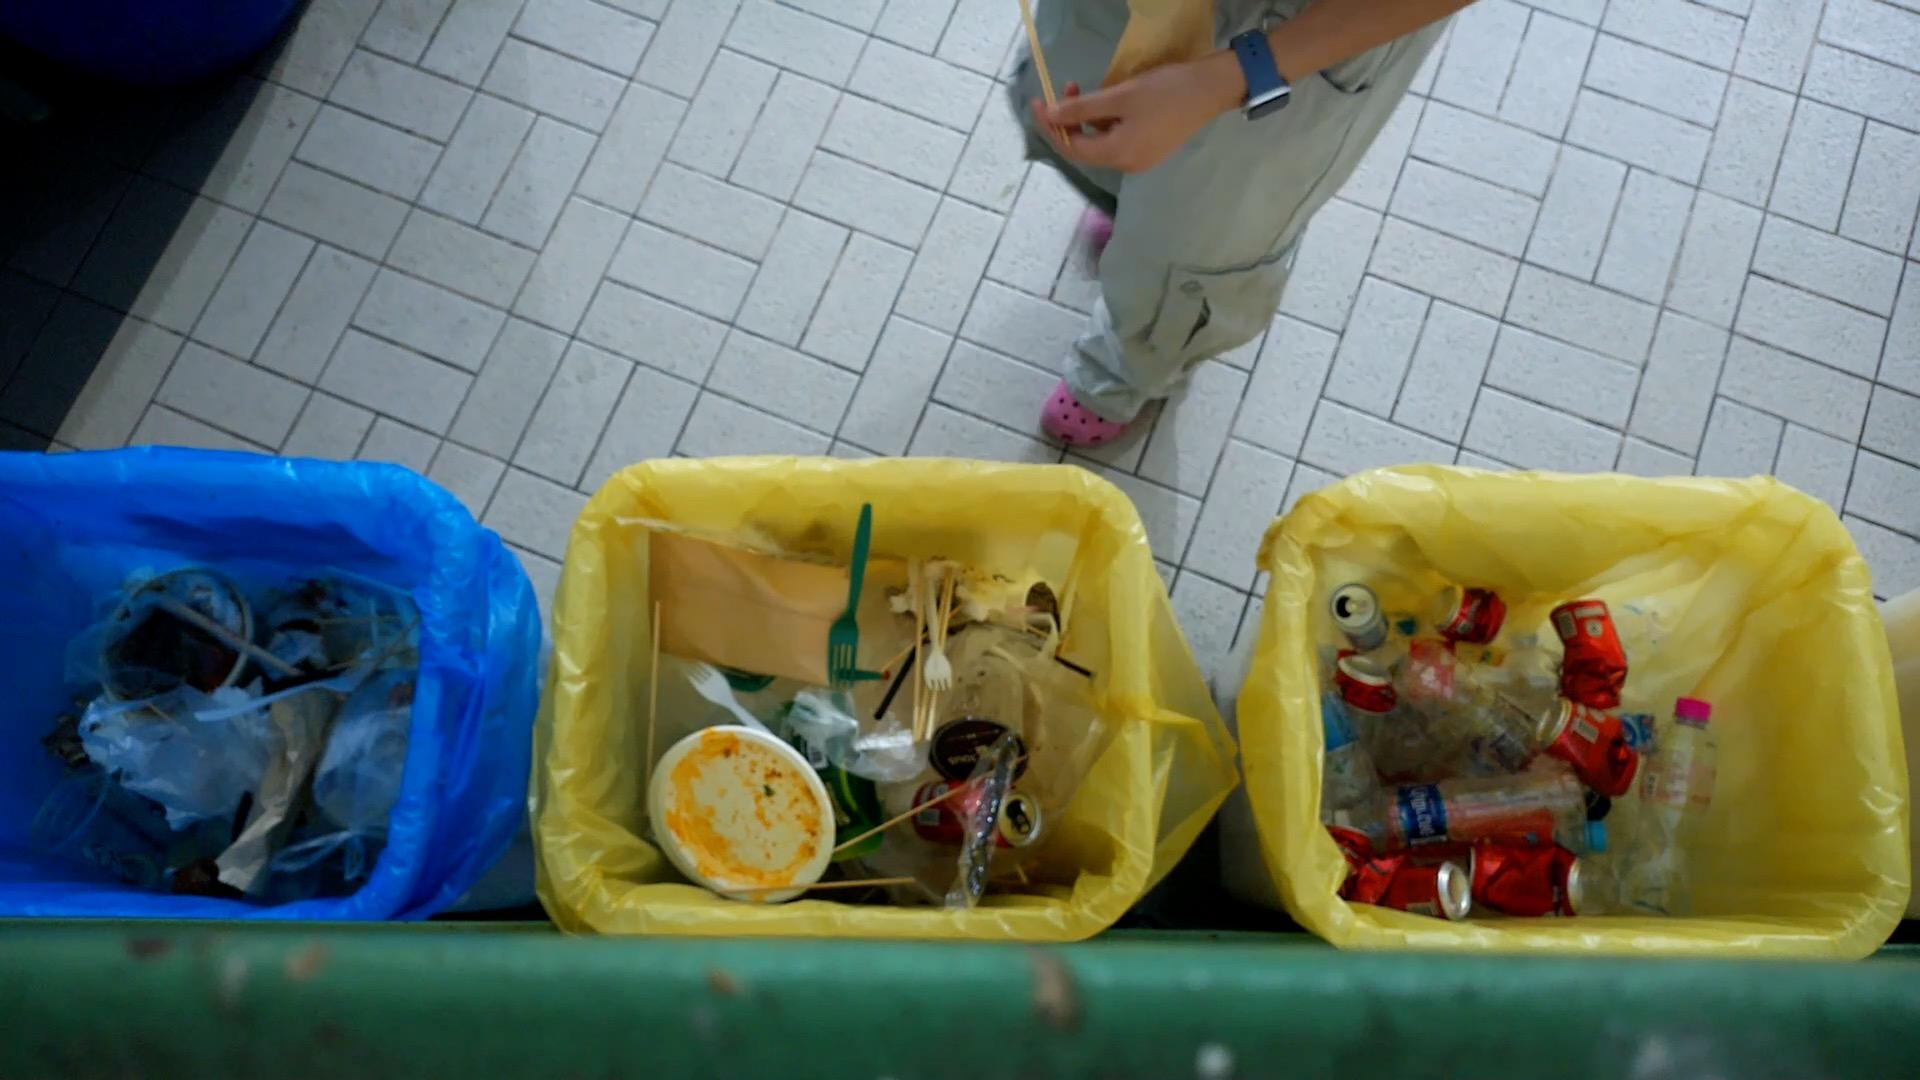can: (1532, 698, 1639, 800), (1547, 599, 1631, 715), (1460, 841, 1585, 918), (911, 782, 1043, 847), (1325, 818, 1406, 913), (1375, 857, 1474, 919), (1431, 582, 1509, 650), (1329, 583, 1389, 651), (1328, 655, 1393, 715)
dirty food container: (647, 727, 833, 907)
filled plastic bag: (266, 663, 421, 884)
paper bag: (647, 525, 845, 691), (214, 686, 340, 898)
plastic bottle: (1610, 695, 1725, 919), (1390, 644, 1535, 781), (1328, 782, 1594, 849)
plastic cup: (28, 770, 174, 881), (930, 653, 1033, 783), (945, 731, 1019, 910)
plastic cutlery: (191, 653, 376, 725), (827, 498, 873, 691), (679, 658, 764, 724), (922, 560, 956, 695)
sticks: (832, 744, 1044, 856), (146, 587, 302, 679), (1014, 0, 1076, 154), (919, 559, 959, 741), (717, 873, 922, 897), (638, 603, 661, 789), (911, 566, 924, 741)
